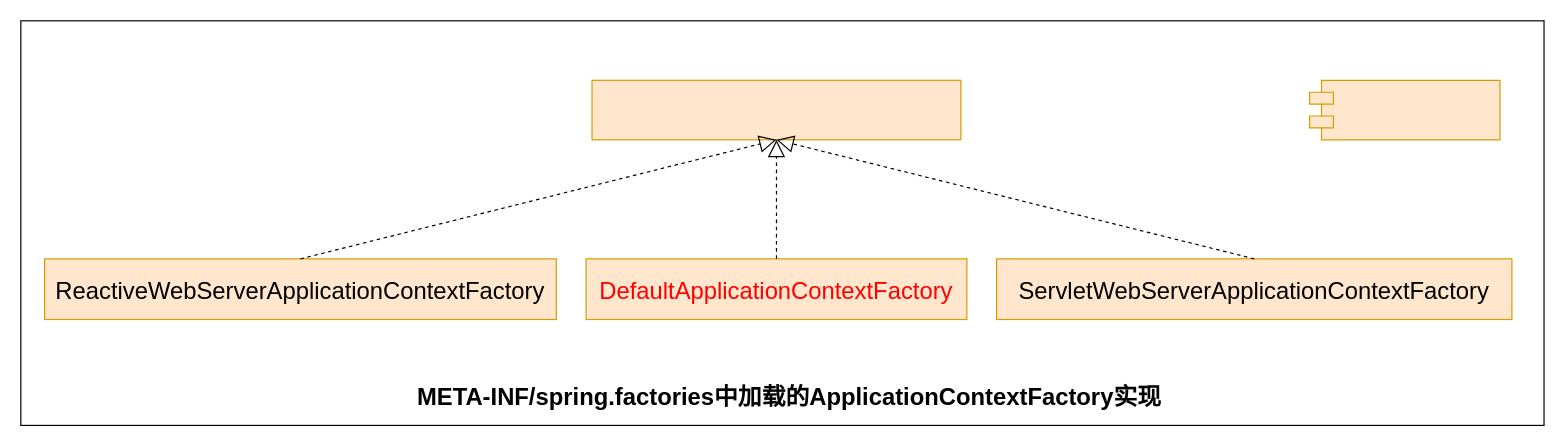
Some shapes in this 1565 by 446 pixel diagram are drawn without their labels. The shapes that lost their labels are listed below. From the top down, each one's centre as x and y in pixels, then its label:
point (776, 109): «interface» ApplicationContextFactory
point (1404, 109): spring-boot
